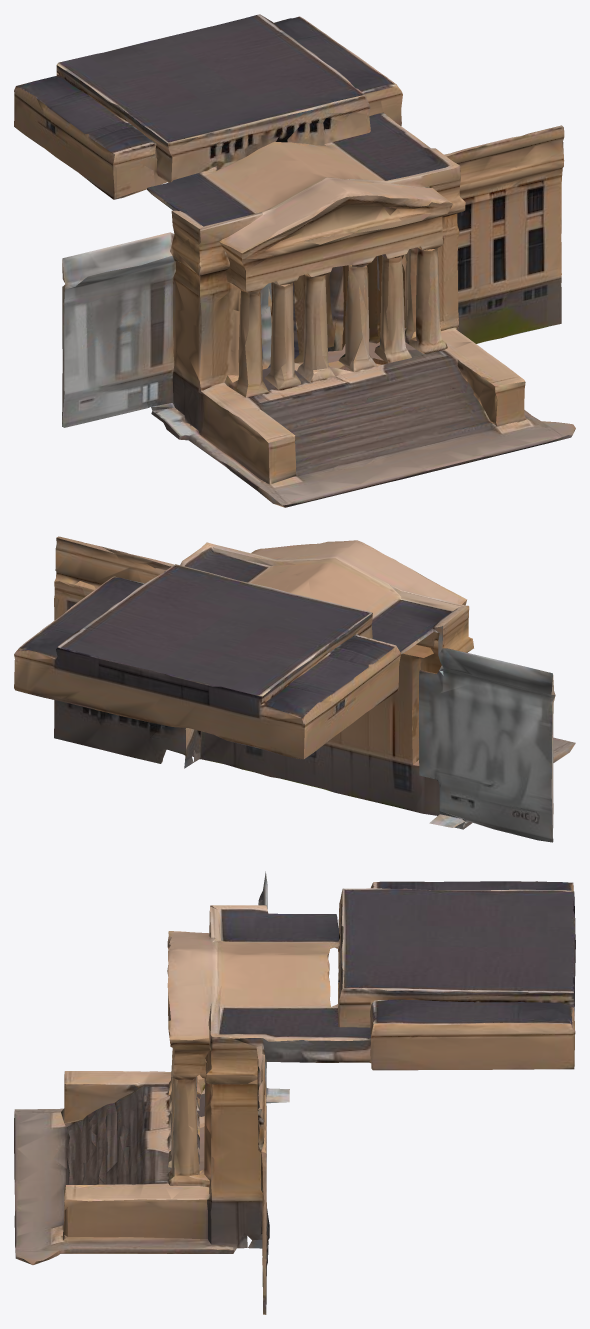
File: auckland-war-memorial-museum.glb
3 renders of one model, top to bottom at view 1: azimuth 30°, elevation 25°; view 2: azimuth 150°, elevation 25°; view 3: azimuth 270°, elevation 25°, orthographic. The views are drawn at different scales.
Visible parts, largest first — view 1: logan-textured.obj; view 2: logan-textured.obj; view 3: logan-textured.obj.
Boxes of the visible parts, x1,y1,x2,y2 form: logan-textured.obj: [14, 14, 575, 507]; logan-textured.obj: [14, 536, 575, 842]; logan-textured.obj: [14, 871, 575, 1314].
Size of the model in its own units: 1 by 0.4602 by 0.9439.
Materials: 1 (1 with a texture image).
